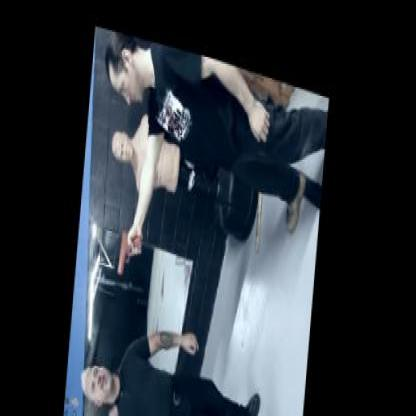pistol: (119, 219, 144, 272)
